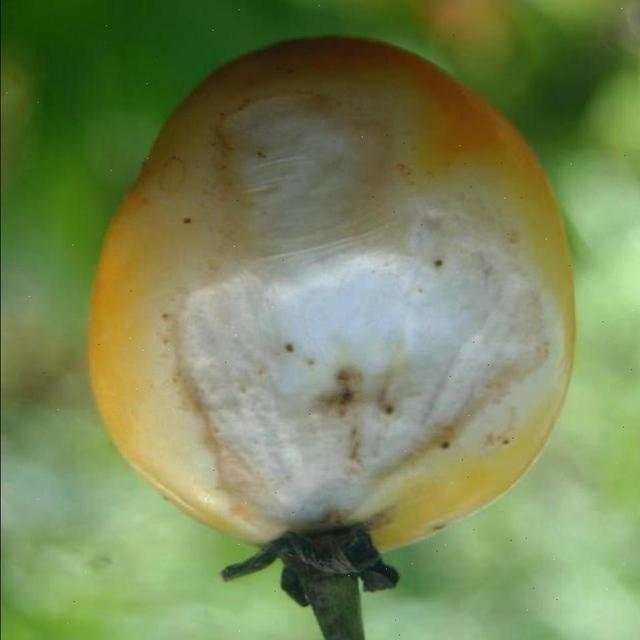Sunscald Fruit: (111, 61, 377, 358)
